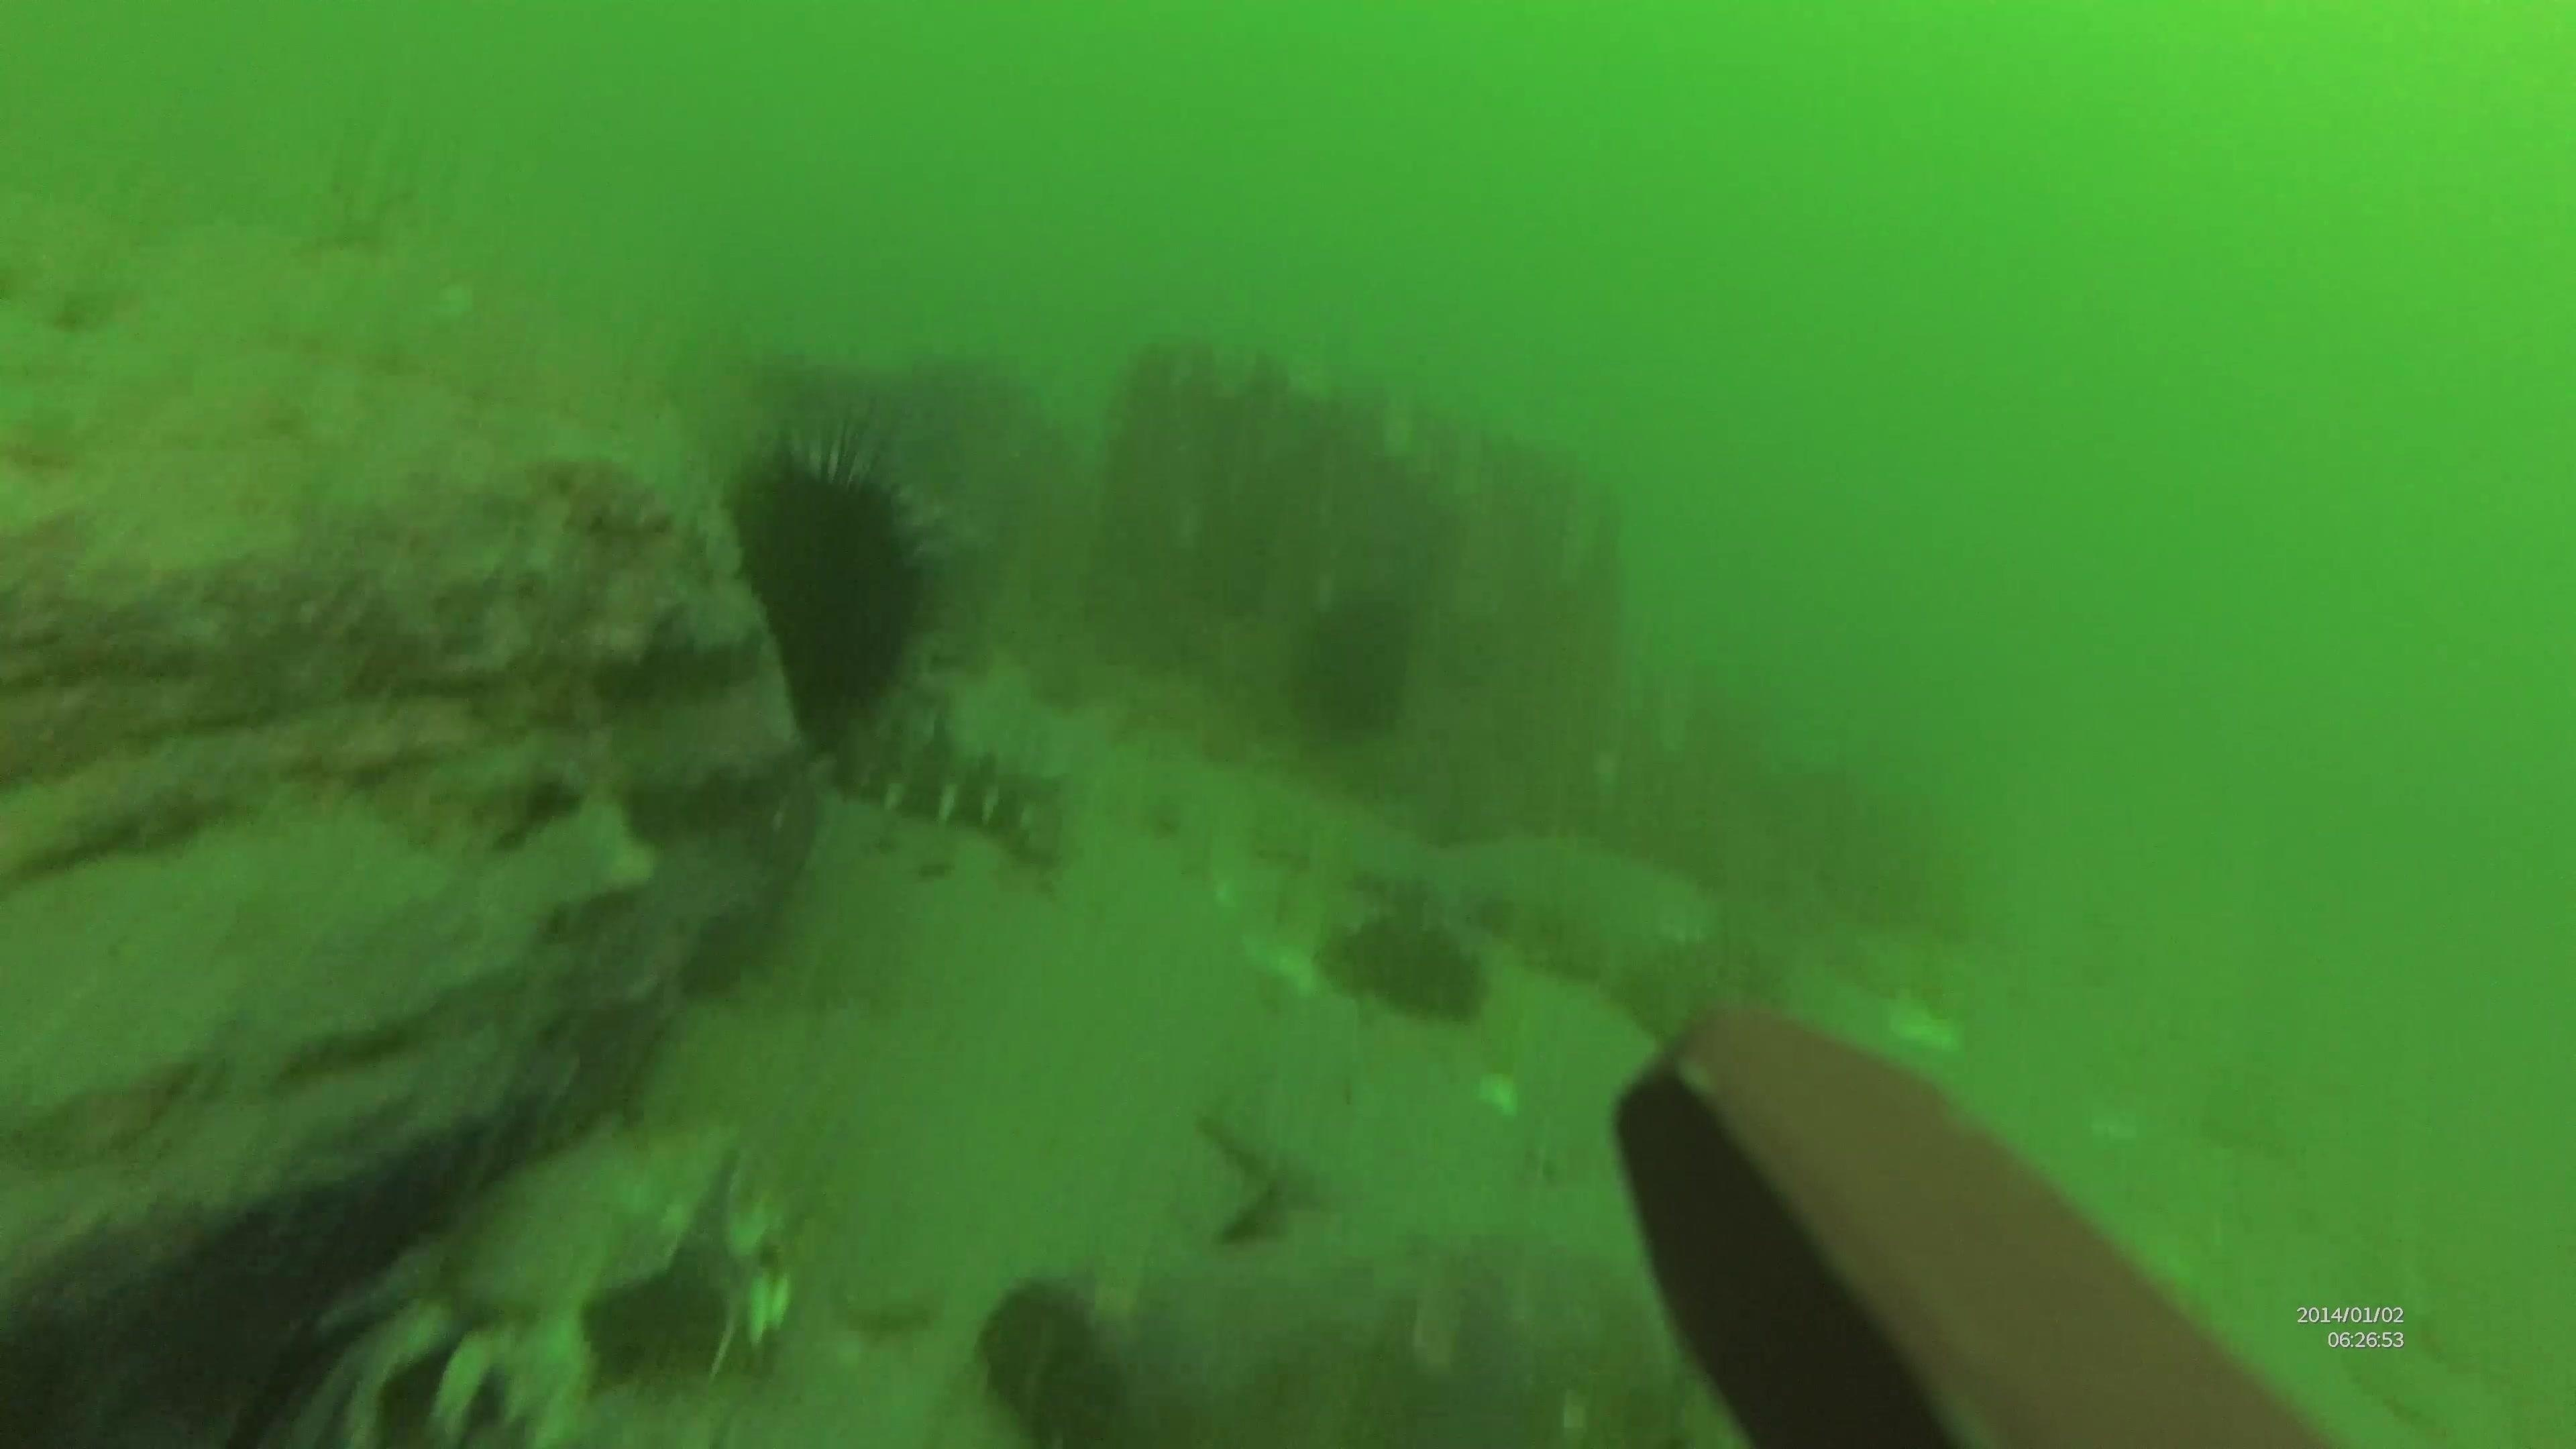echinus: (713, 428, 955, 732), (1277, 586, 1426, 750), (1318, 899, 1495, 1031)
holothurian: (805, 708, 1079, 860)
starfish: (1421, 828, 1723, 989)
